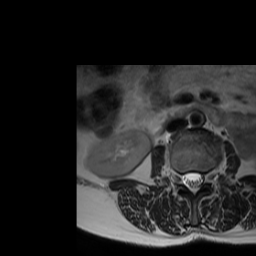CCS_normal: (189, 166, 197, 198)
LFS_normal: (203, 168, 210, 186)
LLS_normal: (196, 167, 202, 191)
RFS_normal: (175, 166, 182, 189)
RLS_normal: (181, 167, 190, 190)
